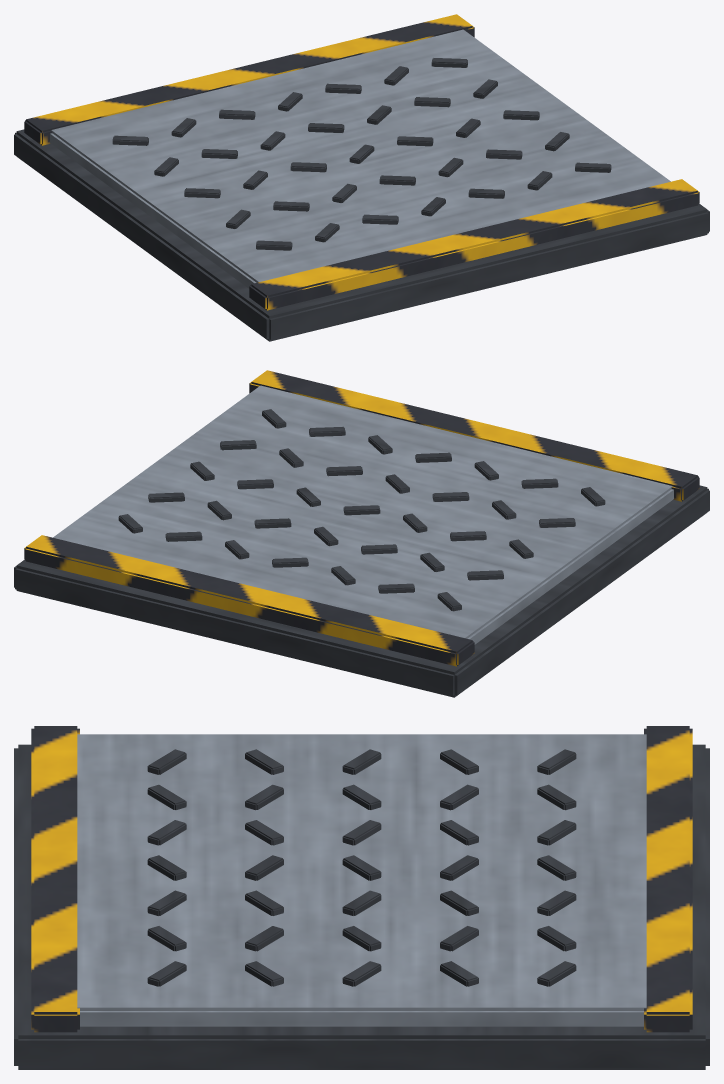
Rendered from floor_metal.glb.
3 renders of one model, top to bottom at view 1: azimuth 30°, elevation 25°; view 2: azimuth 150°, elevation 25°; view 3: azimuth 270°, elevation 25°, orthographic. The views are drawn at different scales.
Visible parts, largest first — view 1: floor_metal; view 2: floor_metal; view 3: floor_metal.
Part boxes in pixels (bbox=[...]): floor_metal: bbox=[14, 14, 709, 341]; floor_metal: bbox=[14, 370, 709, 697]; floor_metal: bbox=[14, 726, 709, 1069].
Bounding box in the file's own units: 1 × 0.095 × 1.
3 materials, 3 textured.
